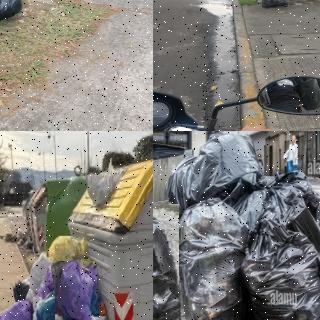Garbage: (177, 197, 245, 320), (243, 217, 320, 320), (165, 131, 262, 200), (285, 182, 320, 319), (153, 202, 183, 320), (53, 259, 99, 320), (47, 234, 86, 268), (34, 289, 62, 320), (0, 299, 31, 320), (261, 0, 289, 8)
